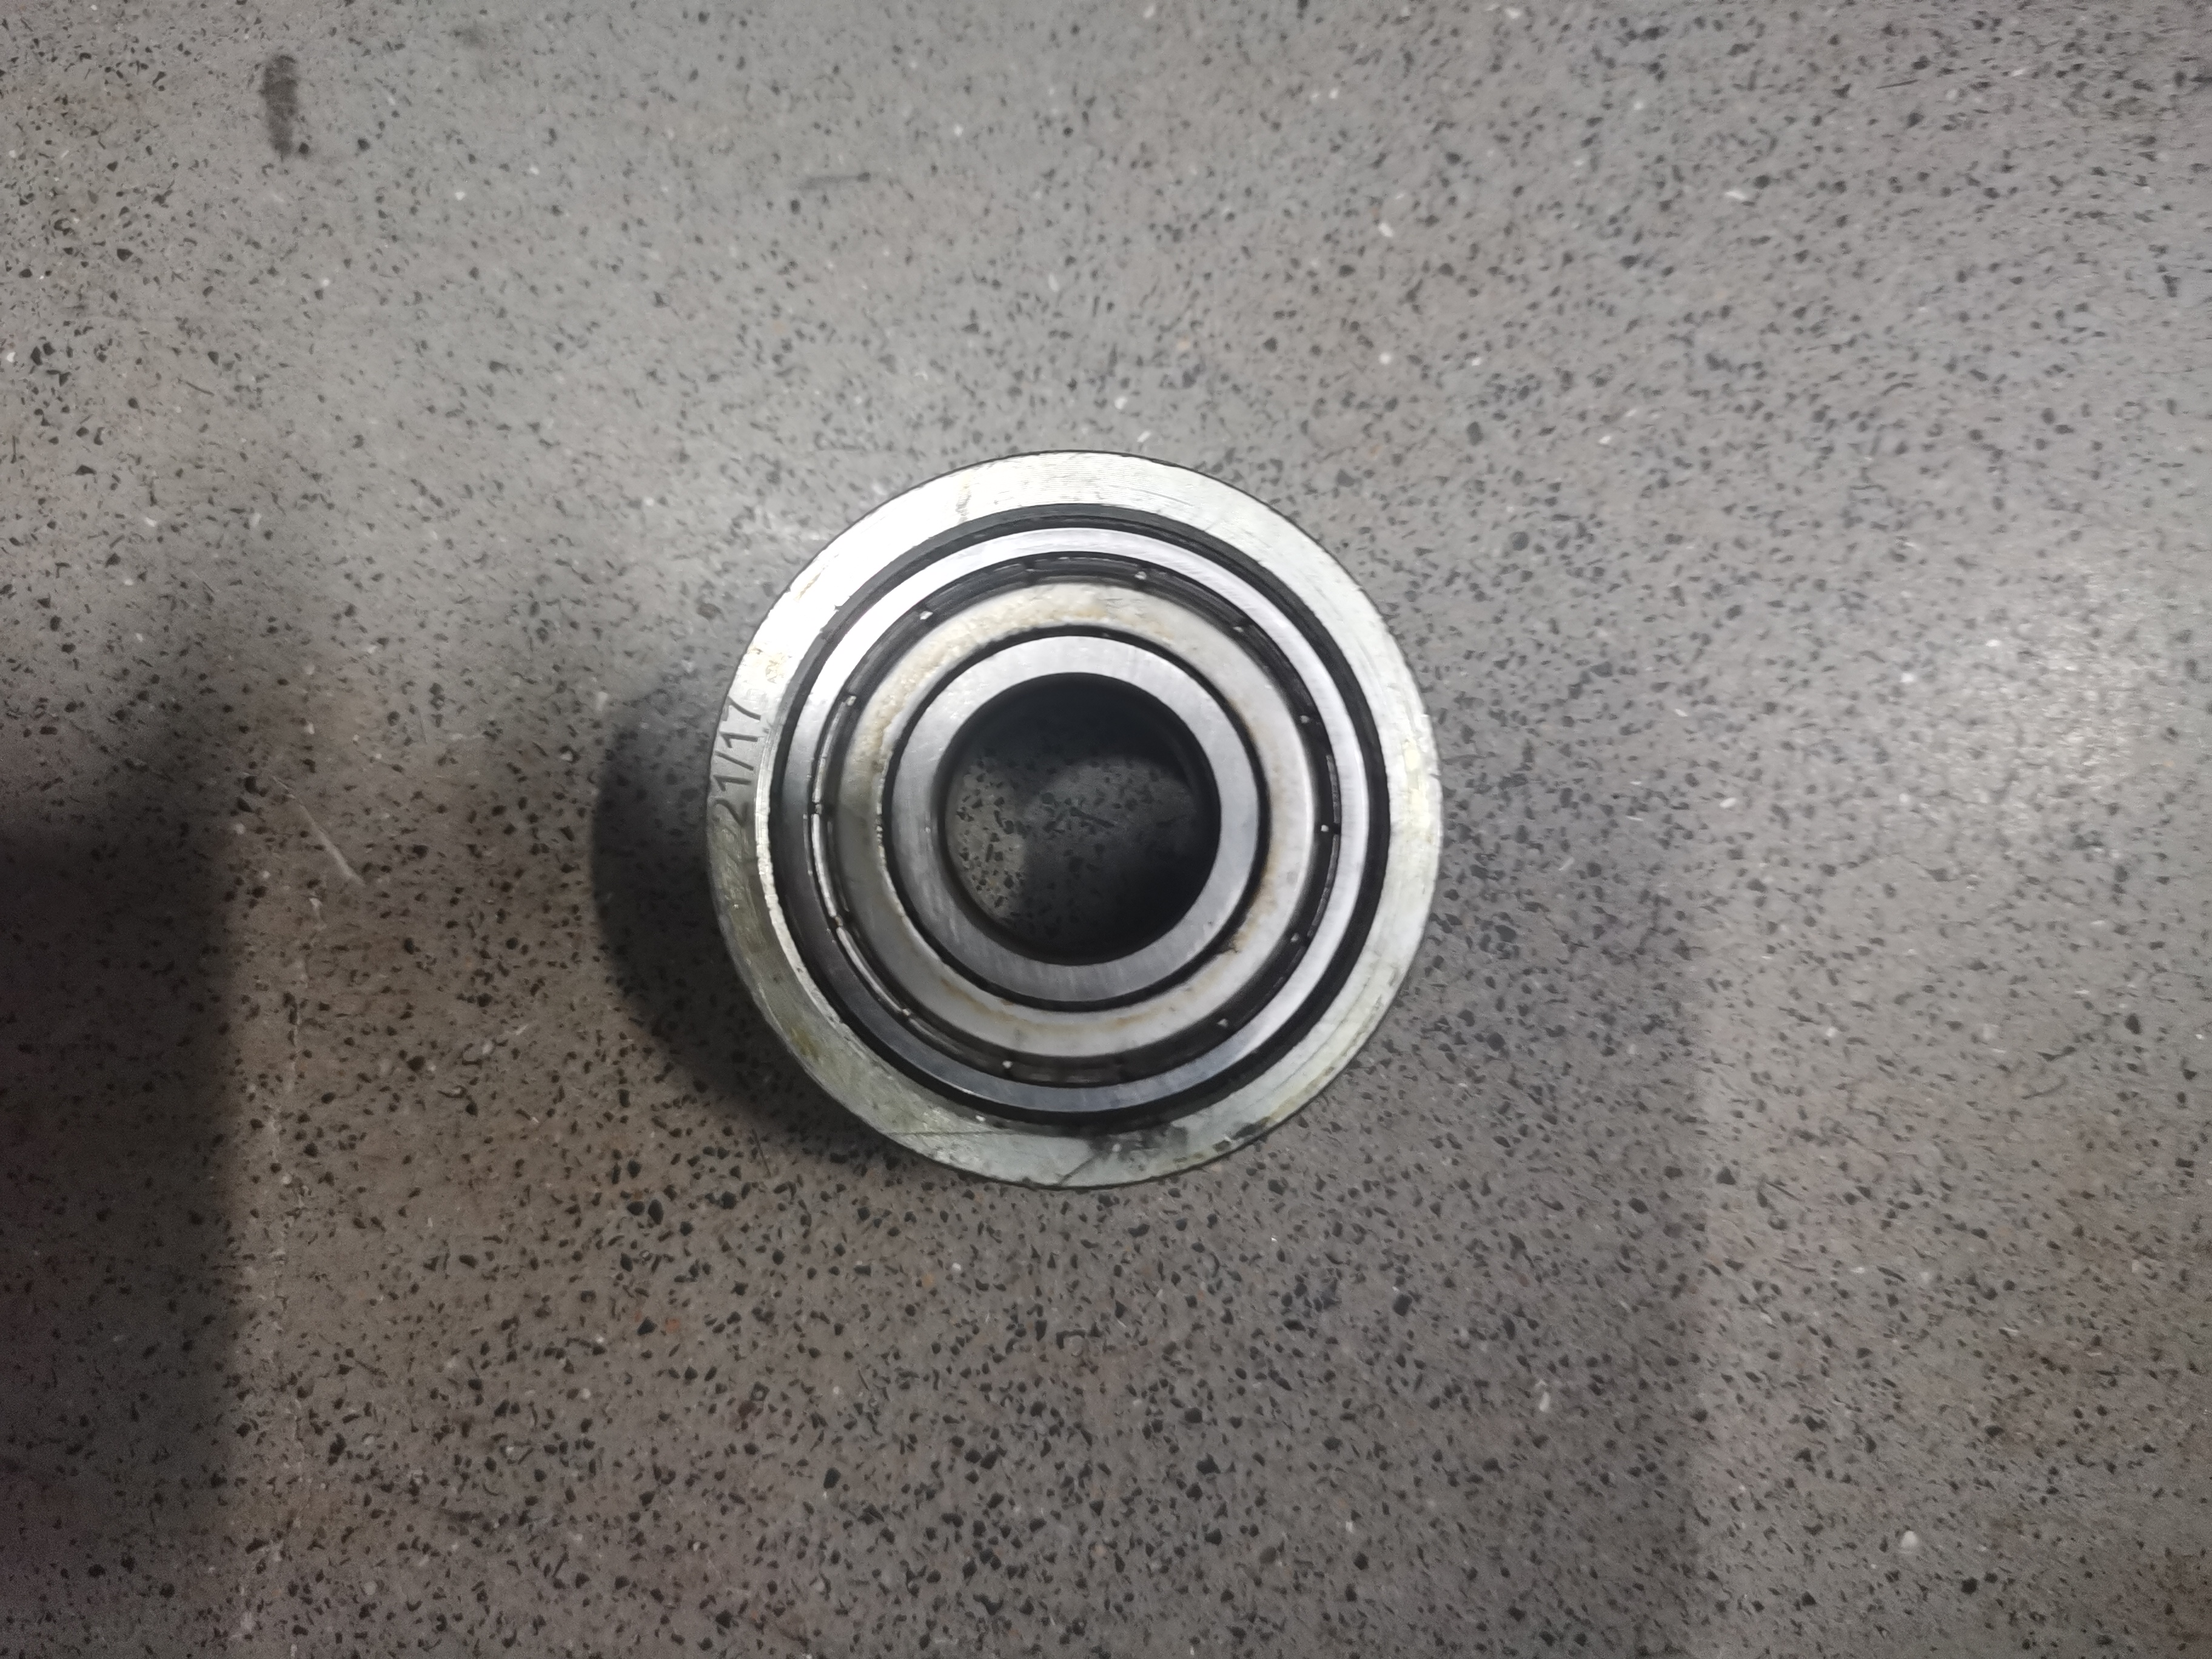bad_wheel: (679, 410, 1479, 1227)
